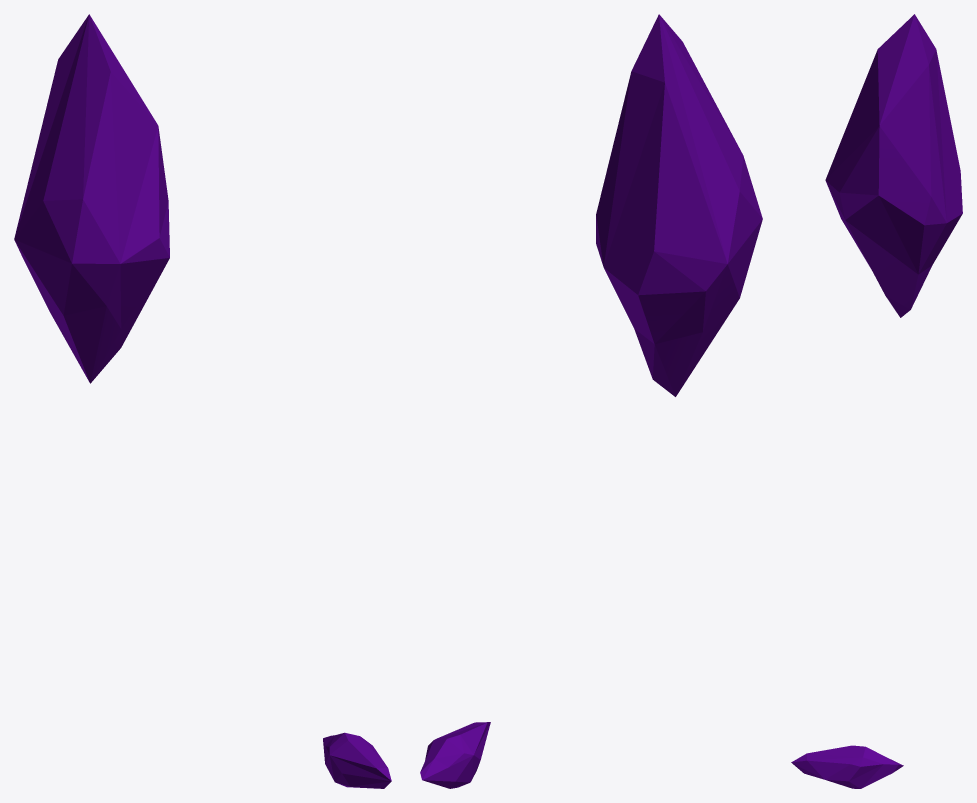
File: SoulStone.fbx
3 renders of one model, left to right at view 1: azimuth 30°, elevation 25°; view 2: azimuth 150°, elevation 25°; view 3: azimuth 270°, elevation 25°, orthographic. The views are drawn at different scales.
Parts seen in each view (by area): view 1: SoulStone, SoulStone_Break; view 2: SoulStone, SoulStone_Break; view 3: SoulStone, SoulStone_Break.
Boxes of the visible parts, x1,y1,x2,y2 form: SoulStone: [14, 14, 169, 383]; SoulStone_Break: [323, 732, 391, 788]; SoulStone: [596, 14, 762, 396]; SoulStone_Break: [420, 722, 490, 788]; SoulStone: [825, 14, 962, 317]; SoulStone_Break: [791, 745, 903, 788].
Size of the model in its own units: 3.36 by 8.07 by 1.85.
